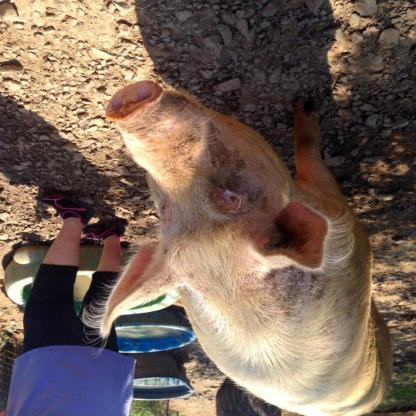boar: (80, 79, 394, 416)
